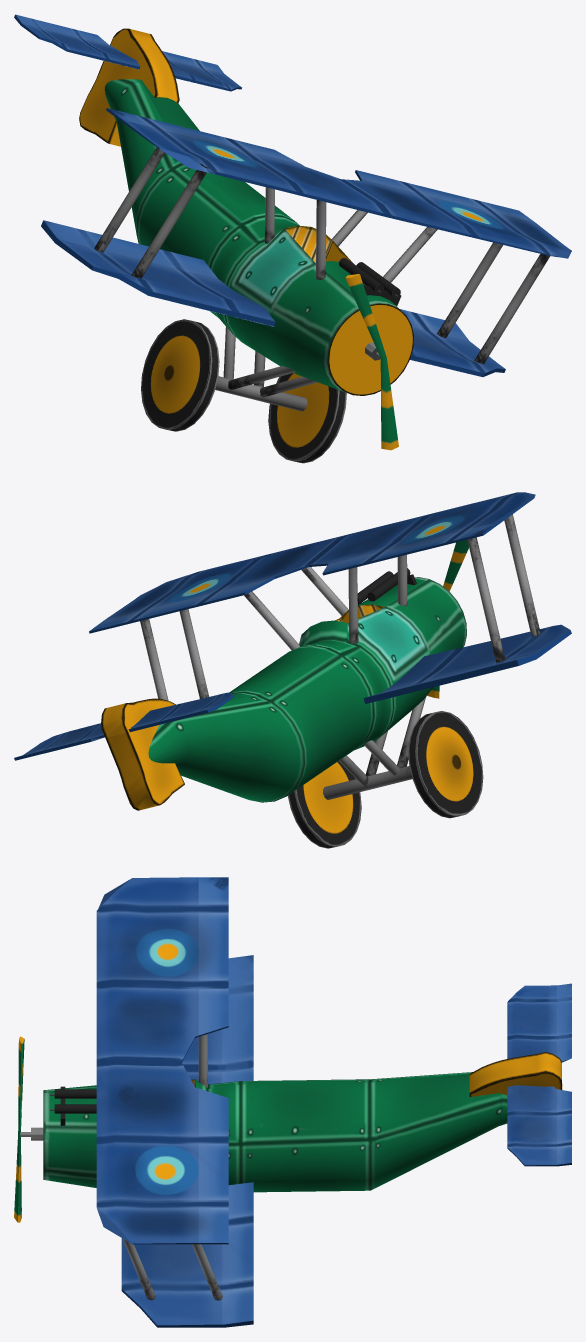
The picture shows the model from 3 angles, top to bottom: view 1: azimuth 30°, elevation 25°; view 2: azimuth 150°, elevation 25°; view 3: azimuth 270°, elevation 25°; orthographic projection. The views are drawn at different scales.
Visible parts, largest first — view 1: Plane2; view 2: Plane2; view 3: Plane2.
Boxes of the visible parts, left/top/right/bottom form: Plane2: left=14, top=14, right=571, bottom=463; Plane2: left=14, top=492, right=571, bottom=848; Plane2: left=14, top=877, right=571, bottom=1327.
Bounding box in the file's own units: 4.76 × 3.7 × 5.46.
1 material, 1 textured.
